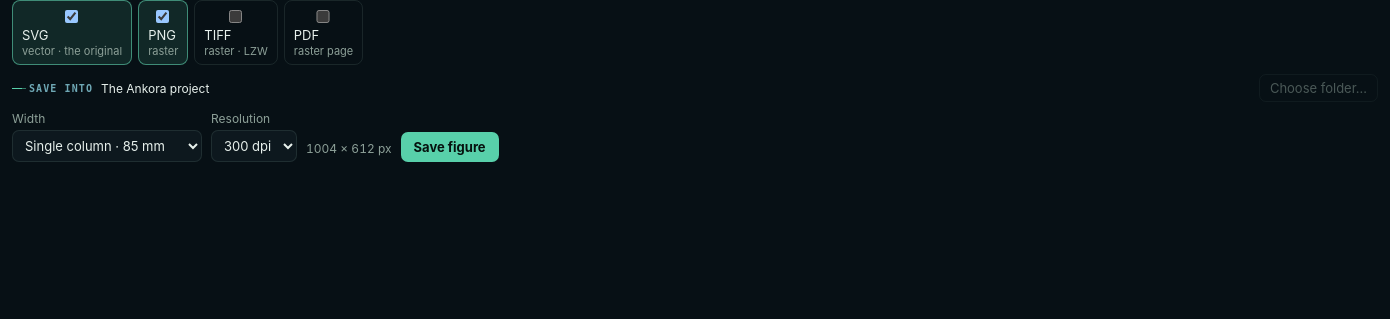
it: names a figure it cannot serve rather than linking to it
The width and height of the screenshot is (1390, 319).
What coordinates should you click on to do the following:
click the checkbox labelled "PNG raster"
I would click on:
 (163, 16)
Its box is [152,10,173,23].
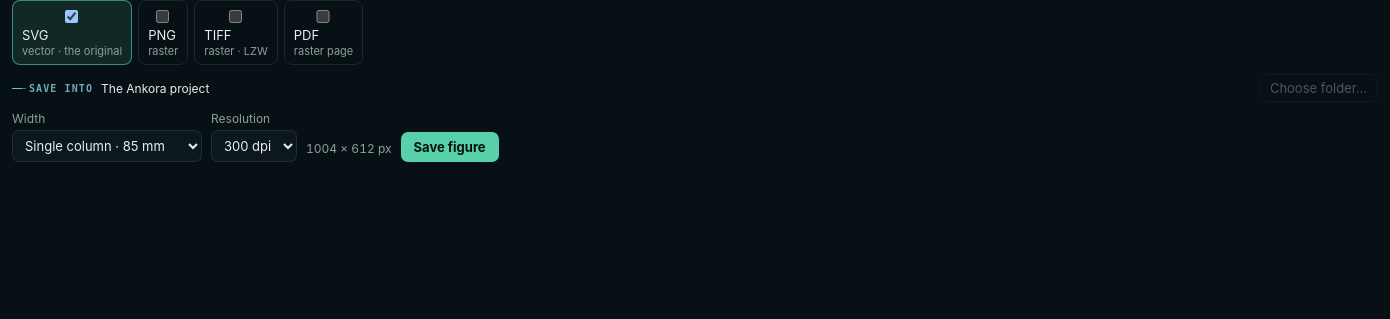
What coordinates should you click on to do the following:
click the button "Save figure"
I would click on:
 (450, 147)
Its box is [401,132,499,162].
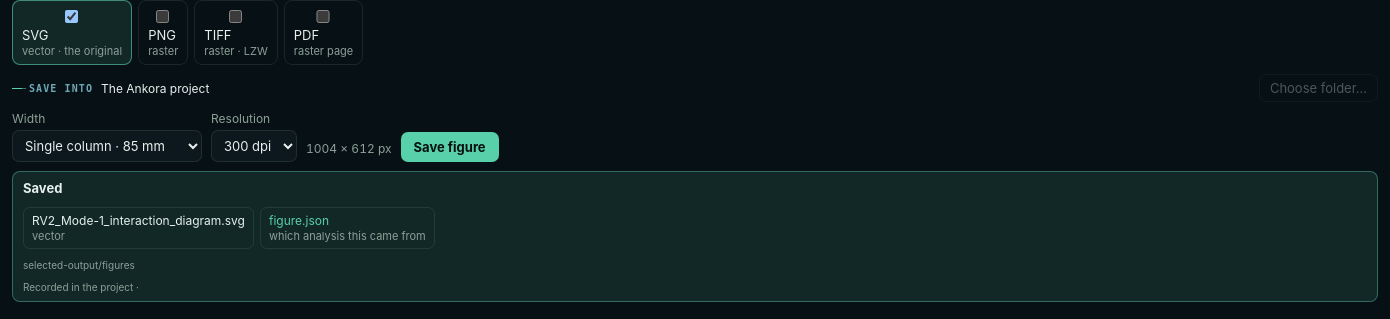
Check: the text "RV2_Mode-1_interaction_diagram.svg" is shown, box [32,213,245,228]
Check: the link "figure.json which analysis this came from" is shown, box [260,207,435,249]
Check: the text "Recorded in the project ·" is shown, box [23,281,139,293]
